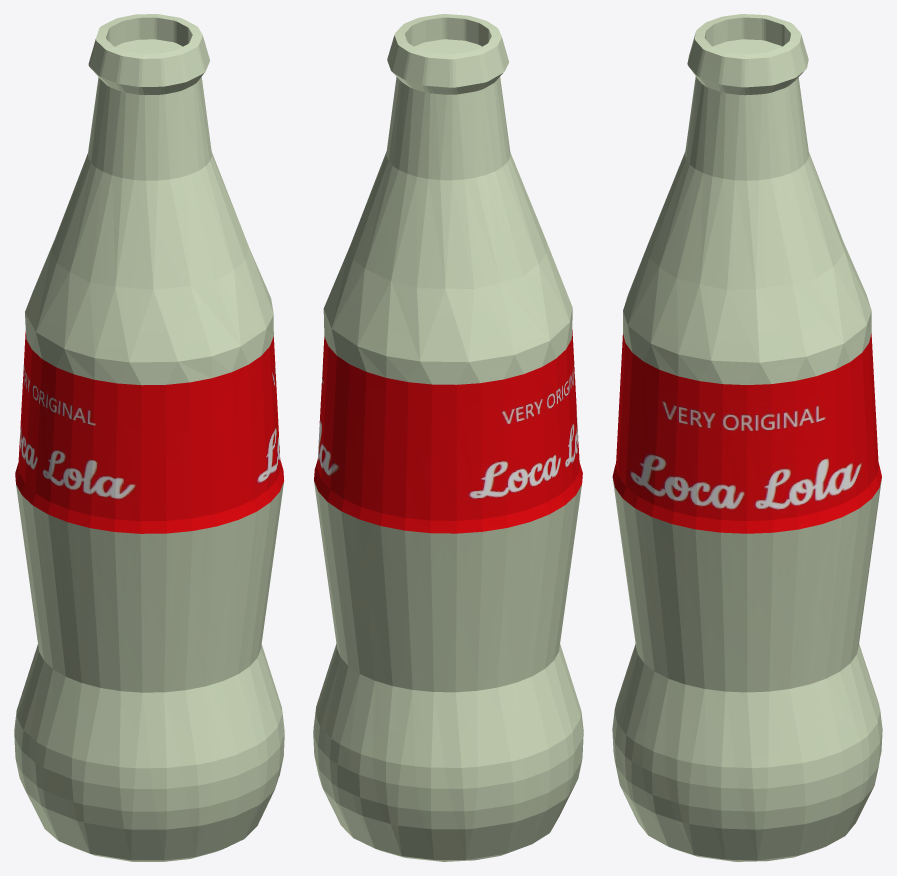
Rendered from Loca.fbx.
3 views of the same model, side by side, from view 1: azimuth 30°, elevation 25°; view 2: azimuth 150°, elevation 25°; view 3: azimuth 270°, elevation 25° (orthographic).
Parts seen in each view (by area): view 1: LocaLola; view 2: LocaLola; view 3: LocaLola.
Boxes of the visible parts, box(x1,y1,x2,y2) form: LocaLola: box(14, 14, 284, 861); LocaLola: box(313, 14, 583, 861); LocaLola: box(612, 14, 882, 861).
Size of the model in its own units: 198 by 633 by 197.
2 materials, 1 textured.
